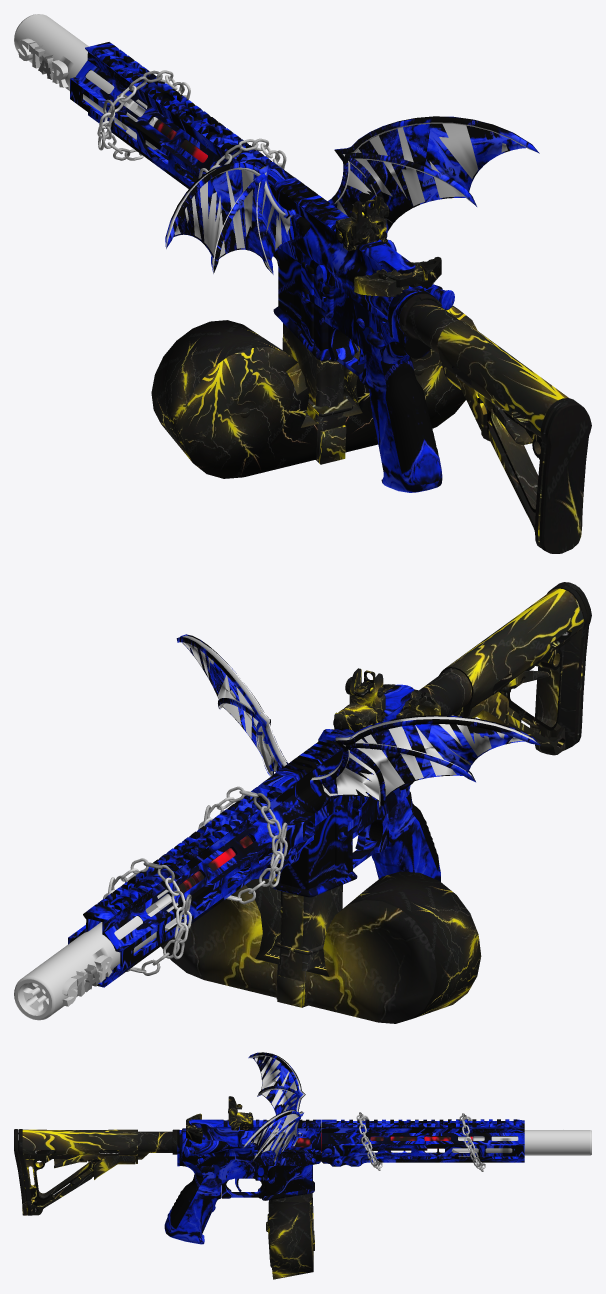
The model's file is Star.fbx.
3 views of the same model, one above another, from view 1: azimuth 30°, elevation 25°; view 2: azimuth 150°, elevation 25°; view 3: azimuth 270°, elevation 25° (orthographic). The views are drawn at different scales.
Parts seen in each view (by area): view 1: Gun_Star; view 2: Gun_Star; view 3: Gun_Star.
Boxes of the visible parts, bbox=[...] form: Gun_Star: bbox=[14, 14, 591, 553]; Gun_Star: bbox=[14, 582, 591, 1023]; Gun_Star: bbox=[14, 1052, 591, 1279].
Size of the model in its own units: 169 by 138 by 428.
Materials: 12 (12 with a texture image).
